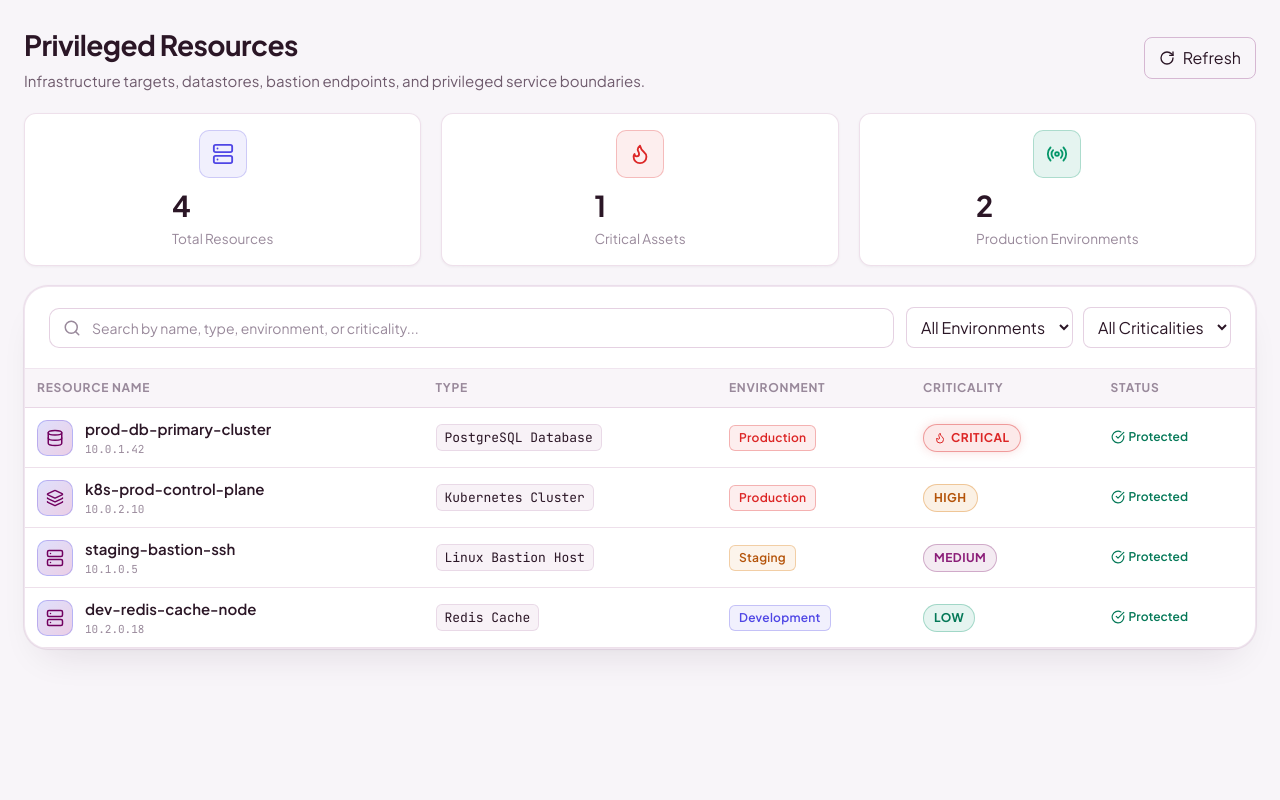
Scenario: Resource List Screen (Resources Component) › filters resources by environment and criticality dropdowns
The image size is (1280, 800).
Check: the text "prod-db-primary-cluster" is shown, box [85,418,271,441]
Select "STAGING" in the dropdown named "filter by environment" at (990, 328), box [906,307,1073,348]
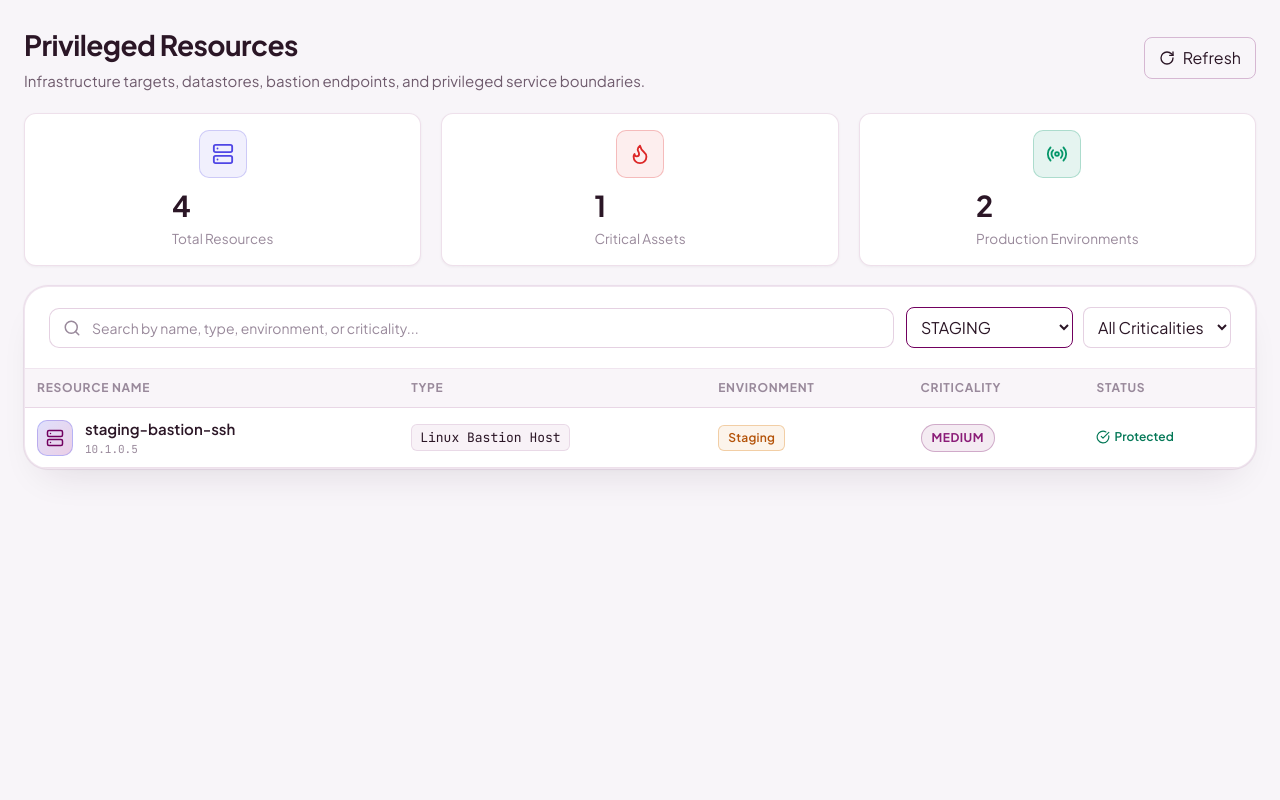
Check: the text "staging-bastion-ssh" is shown, box [85,418,235,441]
Check: the text "prod-db-primary-cluster" is gone
